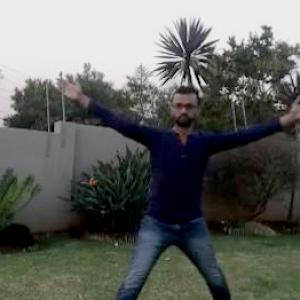takeoff: (74, 90, 299, 299)
